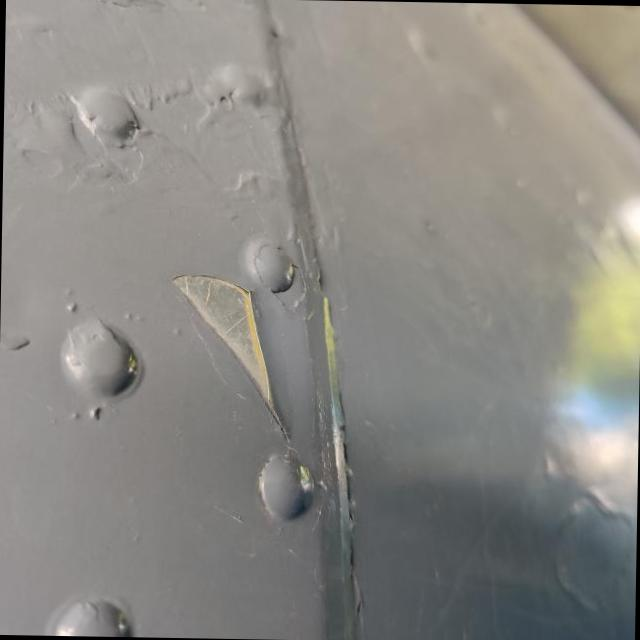Paint-off: (170, 254, 301, 495)
